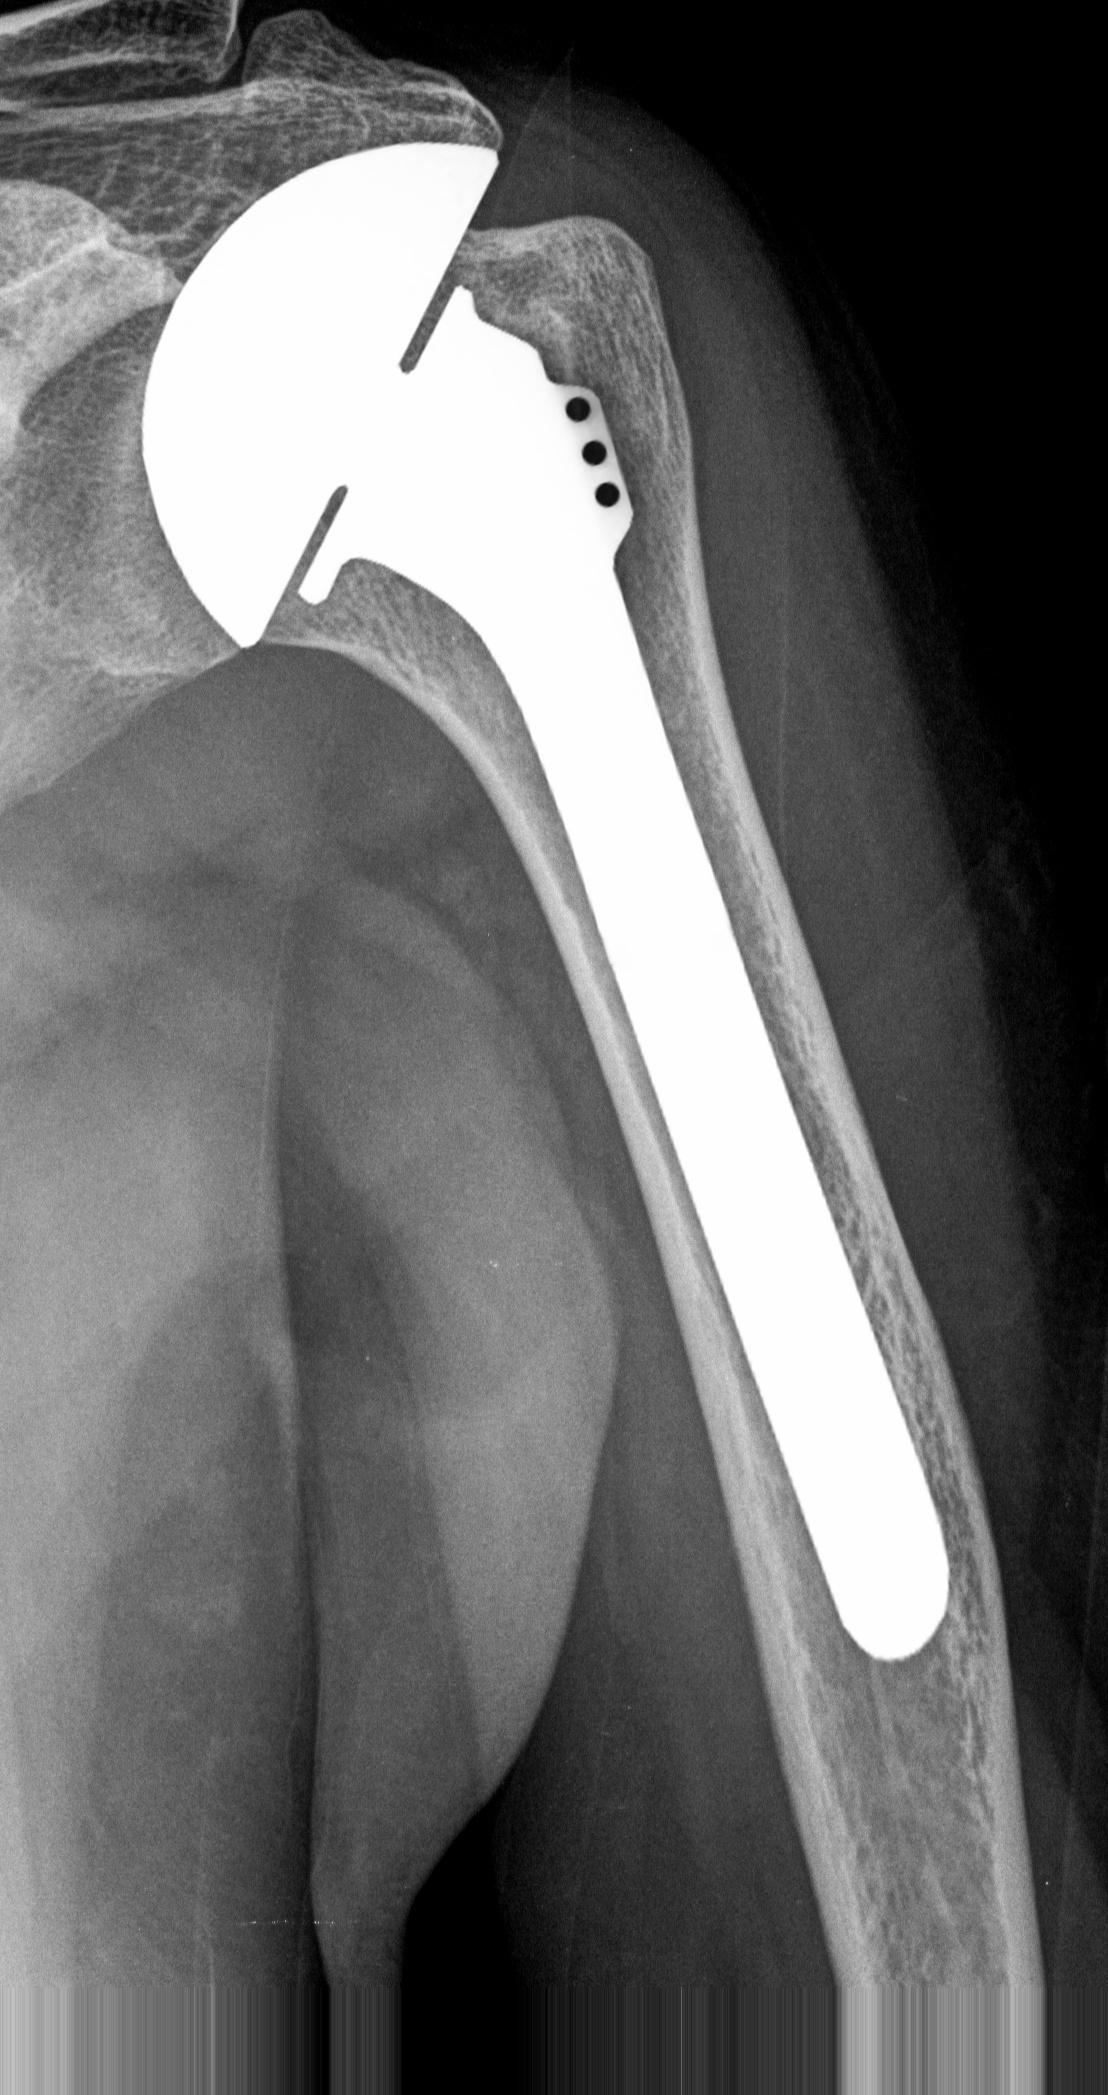Shoulder-Olympia-Wright: (111, 121, 953, 1686)
